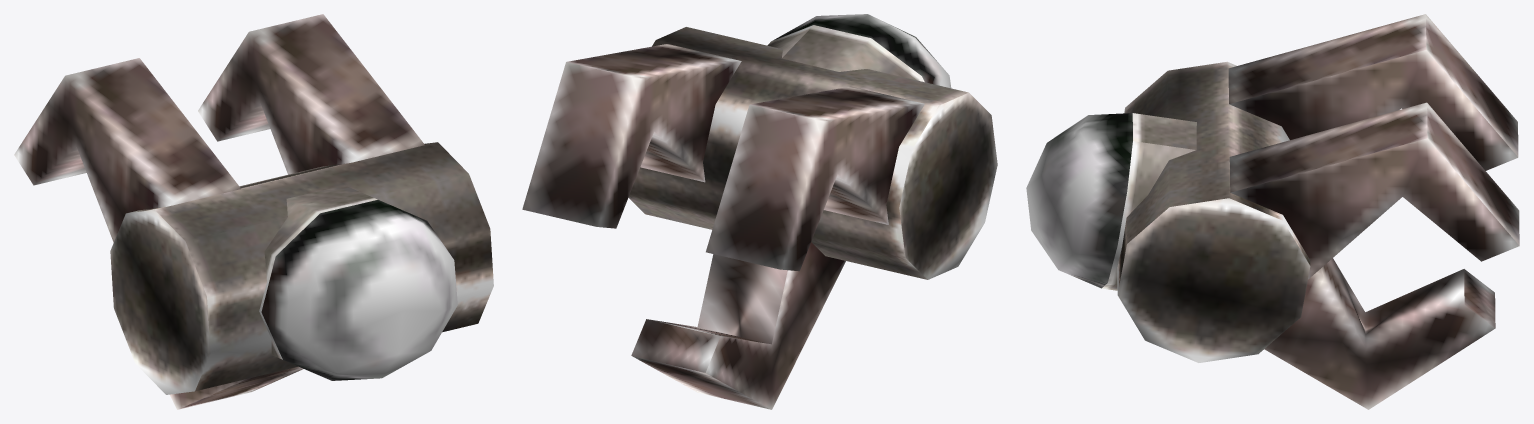
Rendered from Robot01.LeftPalm2.fbx.
The picture shows the model from 3 angles, left to right: view 1: azimuth 30°, elevation 25°; view 2: azimuth 150°, elevation 25°; view 3: azimuth 270°, elevation 25°; orthographic projection. The views are drawn at different scales.
Visible parts, largest first — view 1: mesh_1110; view 2: mesh_1110; view 3: mesh_1110.
Boxes of the visible parts, x1,y1,x2,y2 form: mesh_1110: (14, 14, 493, 409); mesh_1110: (522, 14, 997, 409); mesh_1110: (1026, 14, 1519, 409).
Size of the model in its own units: 22.13 by 24.39 by 33.86.
